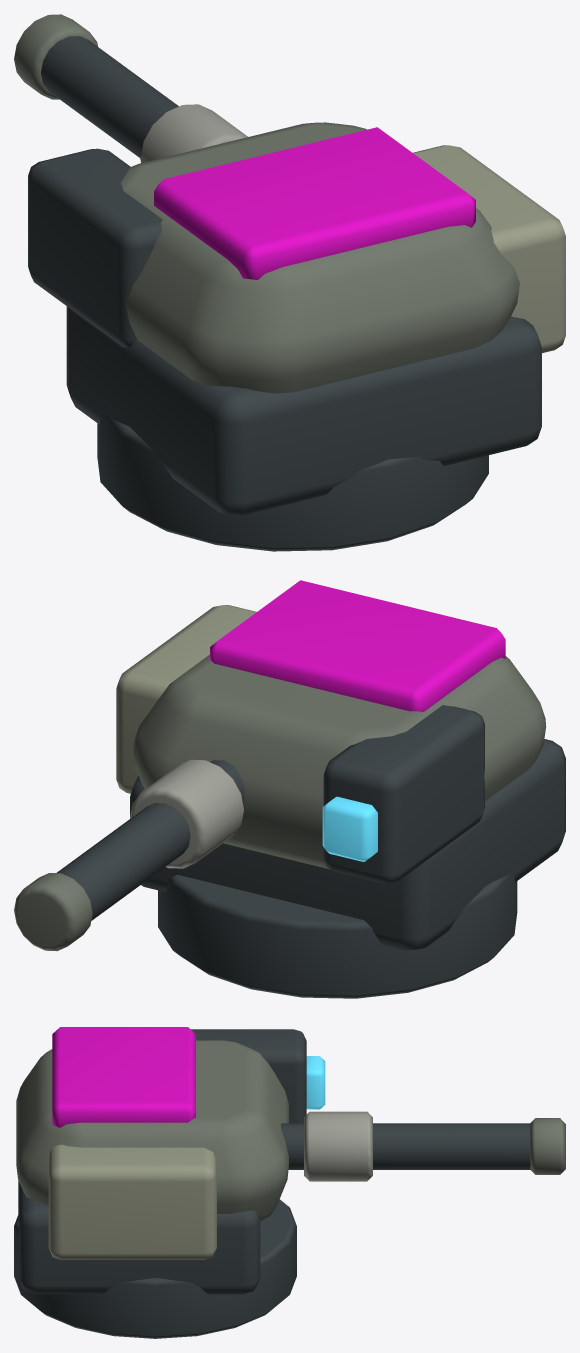
Rendered from tracked-apc-turret.glb.
3 renders of one model, top to bottom at view 1: azimuth 30°, elevation 25°; view 2: azimuth 150°, elevation 25°; view 3: azimuth 270°, elevation 25°, orthographic. The views are drawn at different scales.
Parts seen in each view (by area): view 1: TurretShell; view 2: TurretShell; view 3: TurretShell.
Part boxes in pixels (x1=…): TurretShell: x1=14, y1=14, x2=565, y2=551; TurretShell: x1=14, y1=580, x2=565, y2=998; TurretShell: x1=14, y1=1027, x2=565, y2=1338.
Size of the model in its own units: 0.428 by 0.3285 by 0.757.
